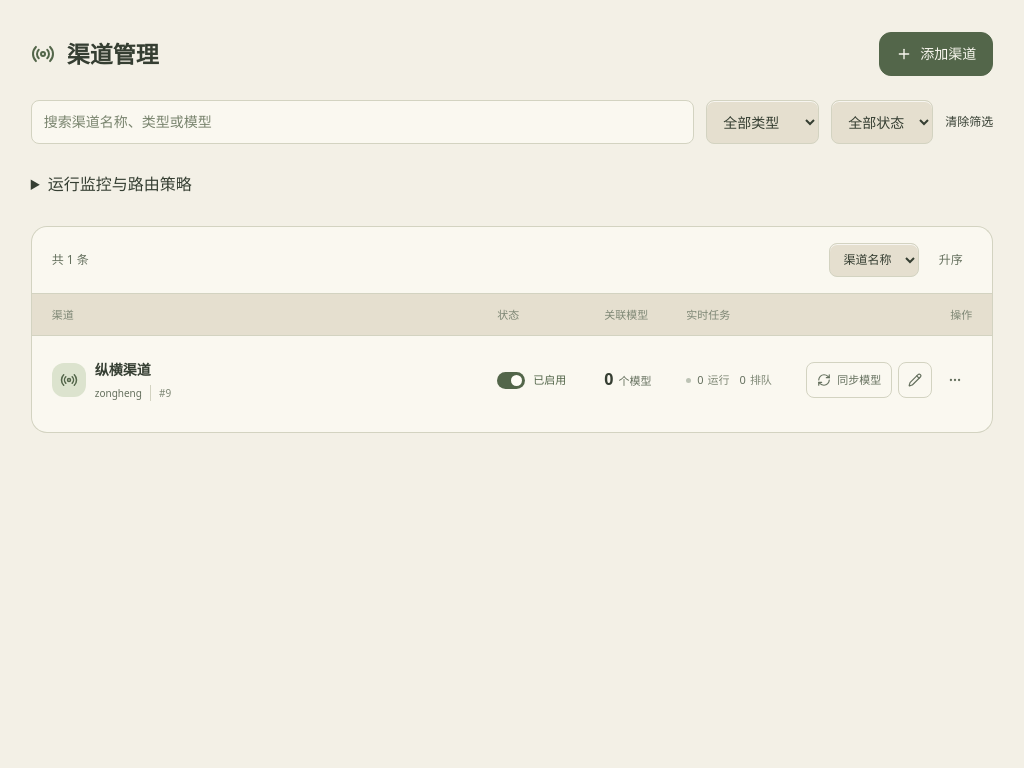
it: channel details and model sync workflow › keeps sync visible on the initial models tab and gives an empty channel a direct action
Click the button with aria-label "查看纵横渠道详情" at (123, 370), box x1=95 y1=359 x2=151 y2=381
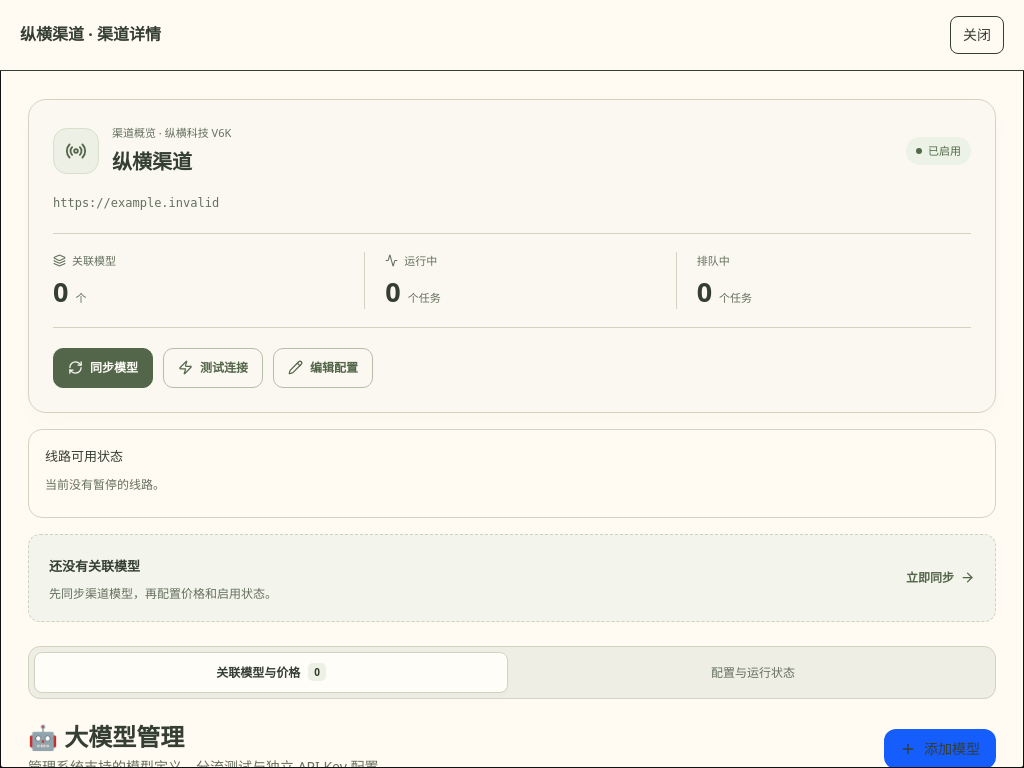
expect the button "同步模型" is shown: met, box x1=53 y1=348 x2=153 y2=388
expect the button "立即同步" is shown: met, box x1=898 y1=560 x2=975 y2=596
Click the button "配置与运行状态" at (753, 672), box x1=516 y1=652 x2=990 y2=693
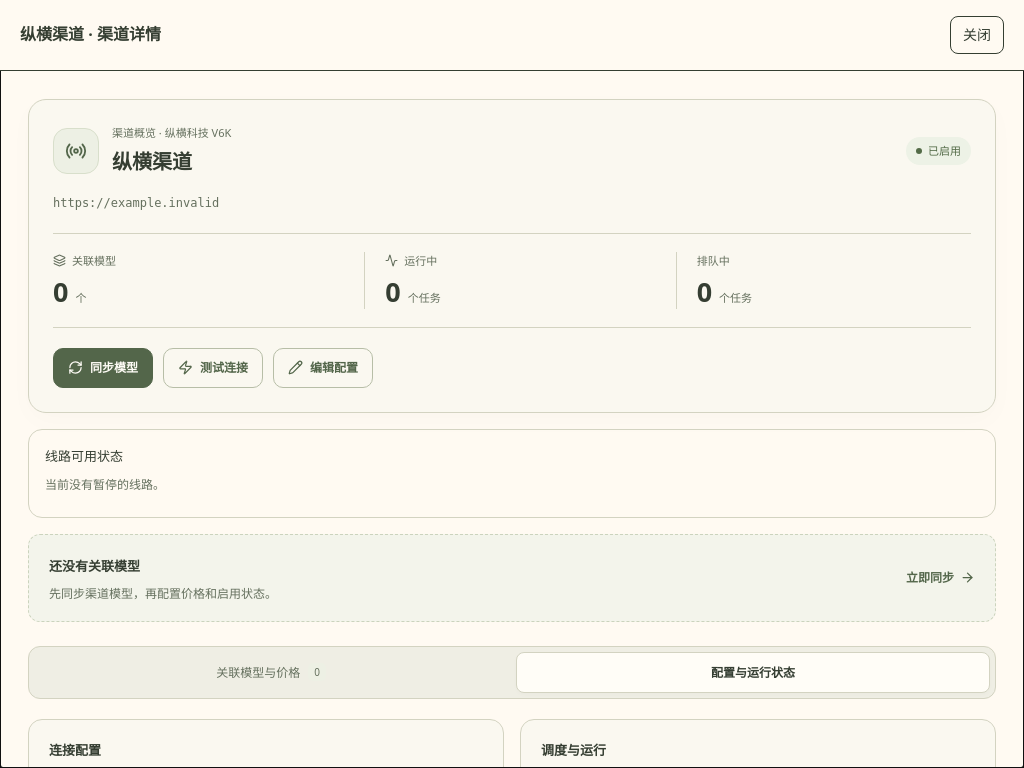
expect the button "同步模型" is shown: met, box x1=53 y1=348 x2=153 y2=388
expect the heading "连接配置" is shown: met, box x1=49 y1=741 x2=101 y2=759
expect the heading "调度与运行" is shown: met, box x1=541 y1=741 x2=606 y2=759
